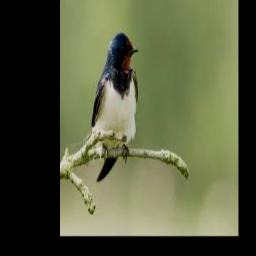Swallow: (92, 33, 140, 182)
